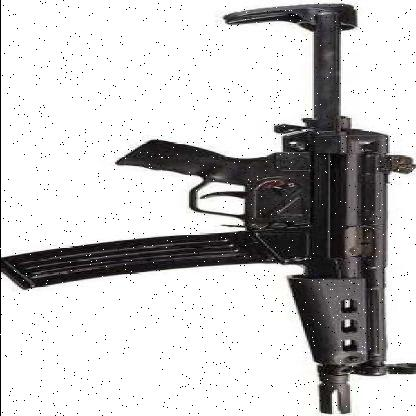rifle: (2, 6, 407, 414)
